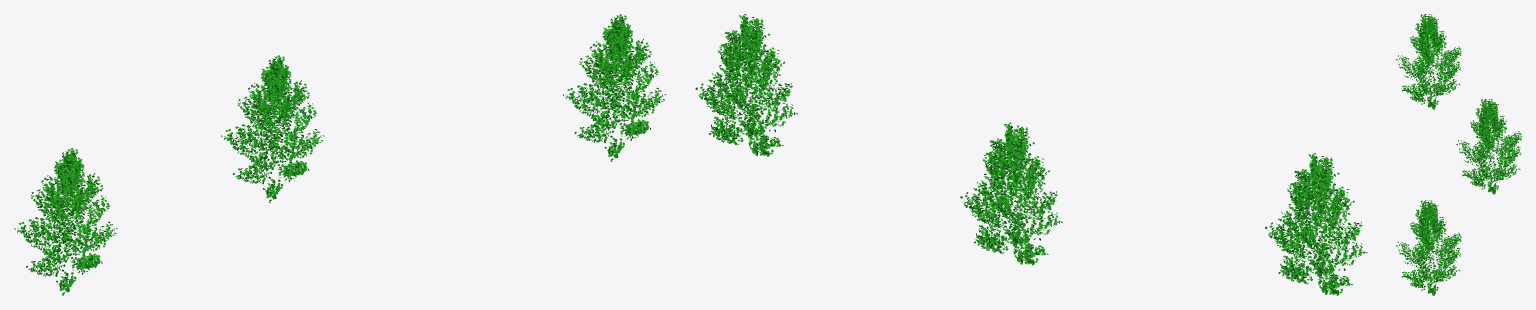
The model's file is daun.obj.
3 views of the same model, side by side, from view 1: azimuth 30°, elevation 25°; view 2: azimuth 150°, elevation 25°; view 3: azimuth 270°, elevation 25° (orthographic). The views are drawn at different scales.
Parts seen in each view (by area): view 1: leaves; view 2: leaves; view 3: leaves.
Part boxes in pixels (x1,y1,x2,y2): leaves: (14, 14, 666, 295); leaves: (695, 14, 1367, 295); leaves: (1396, 14, 1521, 295).
Size of the model in its own units: 16.07 by 3.23 by 3.99.
